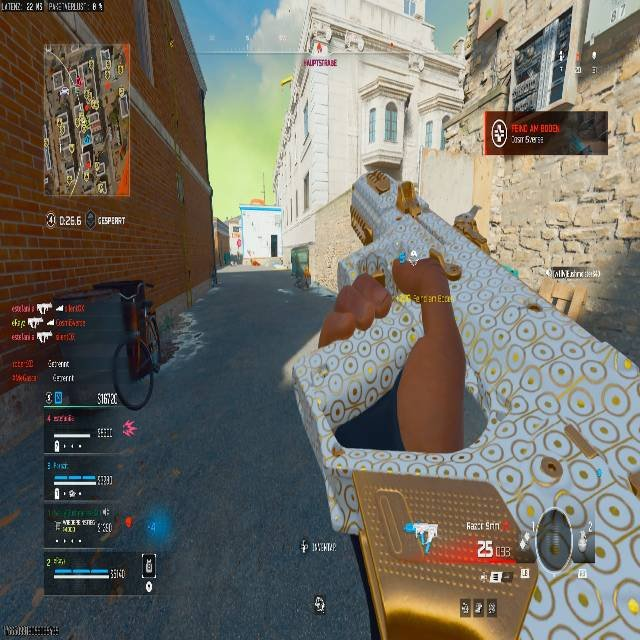head: (348, 154, 411, 242)
player: (279, 156, 553, 640)
